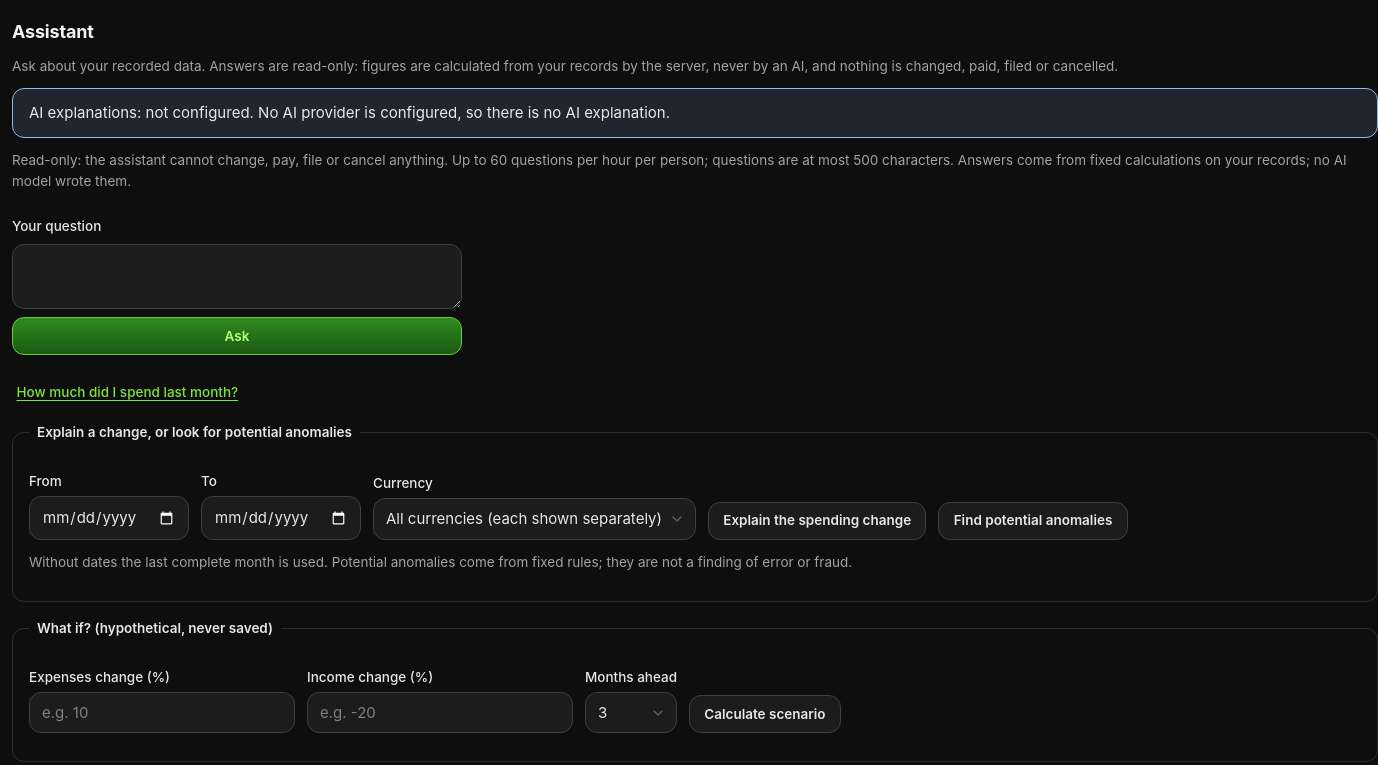
Test case: assistant › shows the AI state honestly, answers from the real API with period, currency and sources, and labels what is verified
Check: the text "AI explanations: not configured" is shown, box [29,103,250,122]
Type "How much did I spend last month?" into the text box labelled "Your question" at (237, 277), box [12,244,462,309]
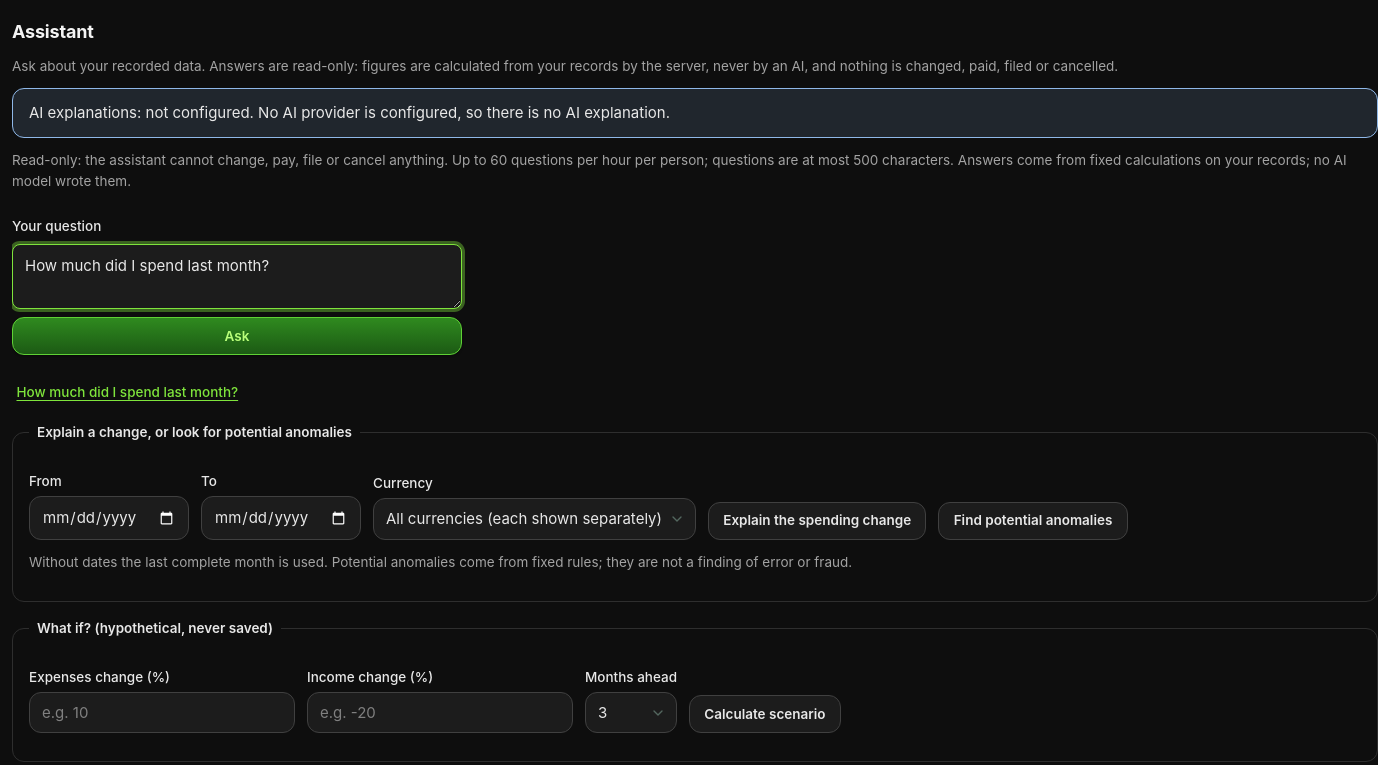
Click the button "Ask" at (237, 336), box [12,317,462,355]
(page scrolled)
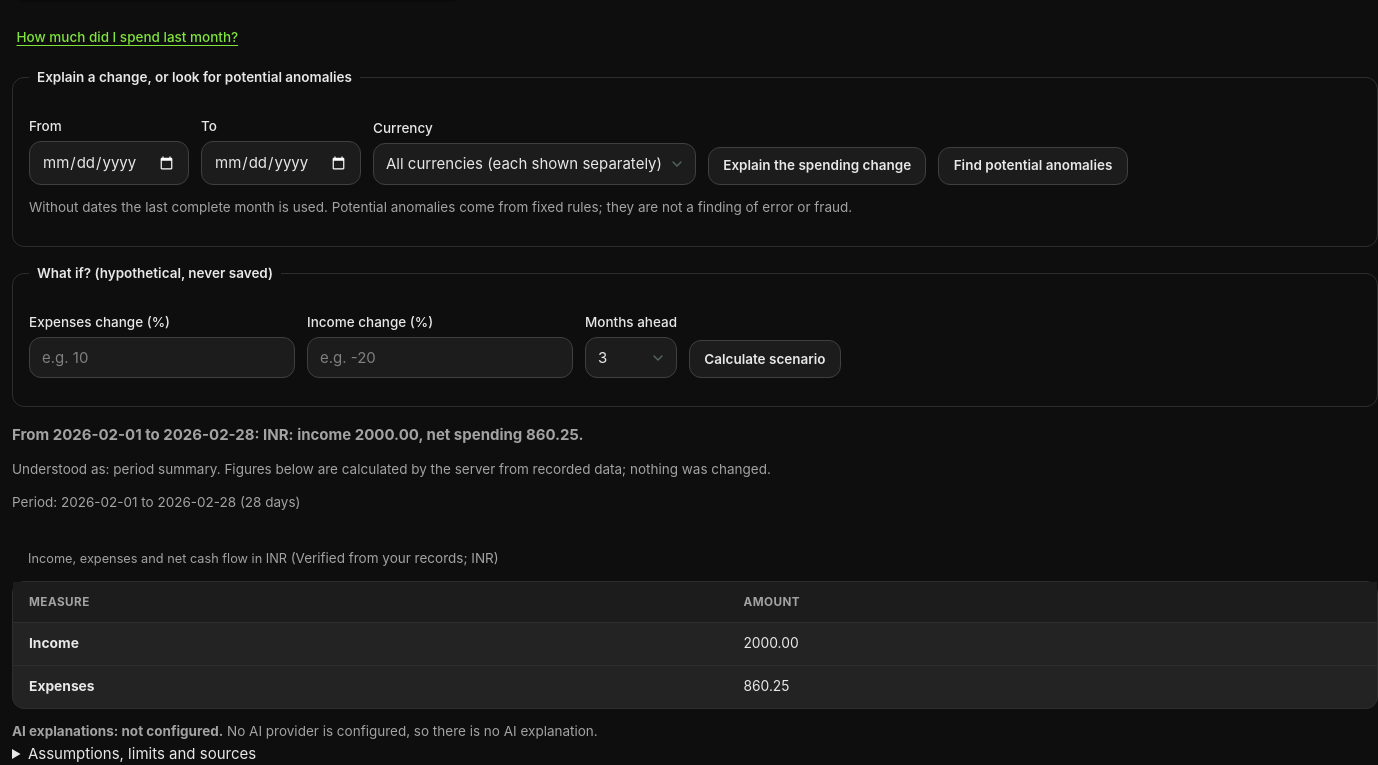
Check: the text "From 2026-02-01 to 2026-02-28: INR" is shown, box [12,425,584,444]
Check: the text "Period: 2026-02-01 to 2026-02-28 (28 days)" is shown, box [12,494,300,510]
Check: the text "860.25" is shown, box [727,666,1377,708]
Click the heading "Assumptions, limits and sources" at (142, 754), box [28,744,256,763]
(page scrolled)
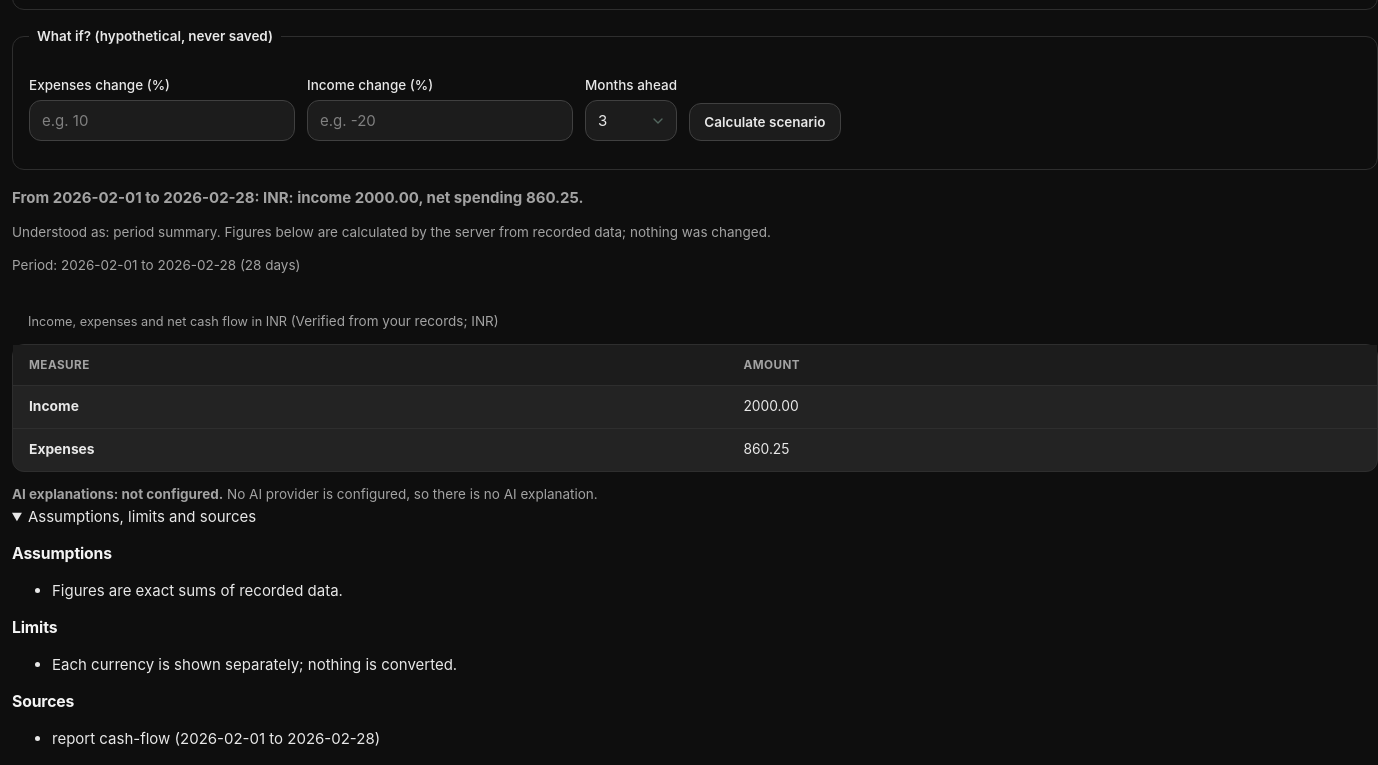
Check: the list item "report cash-flow (2026-02-01 to 2026-02-28)" is shown, box [52,729,380,748]
